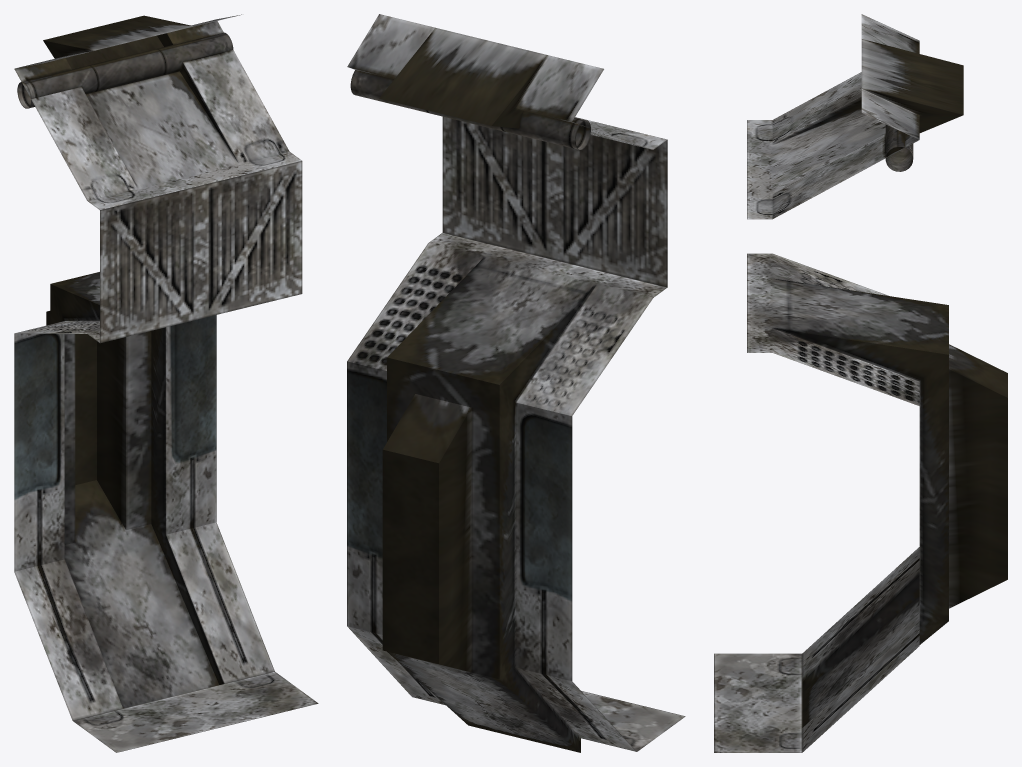
The model's file is strct_WH_Z1_wall_smallstraight.fbx.
3 views of the same model, side by side, from view 1: azimuth 30°, elevation 25°; view 2: azimuth 150°, elevation 25°; view 3: azimuth 270°, elevation 25° (orthographic). The views are drawn at different scales.
Visible parts, largest first — view 1: polySurface262; view 2: polySurface262; view 3: polySurface262.
Boxes of the visible parts, box(x1,y1,x2,y2) form: polySurface262: box(14, 14, 318, 752); polySurface262: box(347, 14, 685, 752); polySurface262: box(714, 14, 1007, 752).
Bounding box in the file's own units: 256 × 785 × 320.
